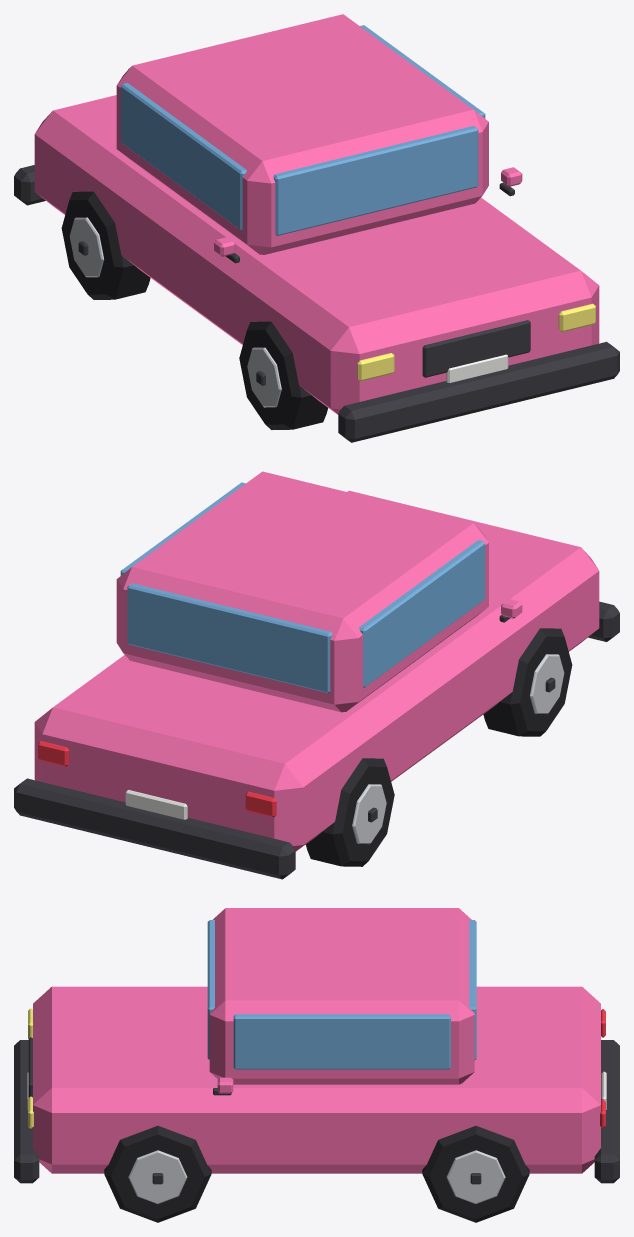
Rendered from PinkCar.fbx.
The picture shows the model from 3 angles, top to bottom: view 1: azimuth 30°, elevation 25°; view 2: azimuth 150°, elevation 25°; view 3: azimuth 270°, elevation 25°; orthographic projection. The views are drawn at different scales.
Parts seen in each view (by area): view 1: PinkCar, PinkCar_WheelBR, PinkCar_WheelFR; view 2: PinkCar, PinkCar_WheelBR, PinkCar_WheelFR; view 3: PinkCar, PinkCar_WheelBL, PinkCar_WheelFL.
Boxes of the visible parts, bbox=[...] form: PinkCar: bbox=[14, 14, 619, 442]; PinkCar_WheelBR: bbox=[61, 191, 150, 299]; PinkCar_WheelFR: bbox=[239, 321, 327, 429]; PinkCar: bbox=[14, 471, 619, 879]; PinkCar_WheelBR: bbox=[305, 758, 394, 866]; PinkCar_WheelFR: bbox=[483, 628, 572, 736]; PinkCar: bbox=[14, 908, 619, 1183]; PinkCar_WheelBL: bbox=[422, 1125, 529, 1222]; PinkCar_WheelFL: bbox=[104, 1125, 211, 1222].
Size of the model in its own units: 4.95 by 3.67 by 9.6.
Materials: 1 (1 with a texture image).
